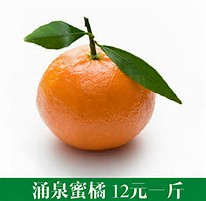orange: (24, 15, 177, 151)
